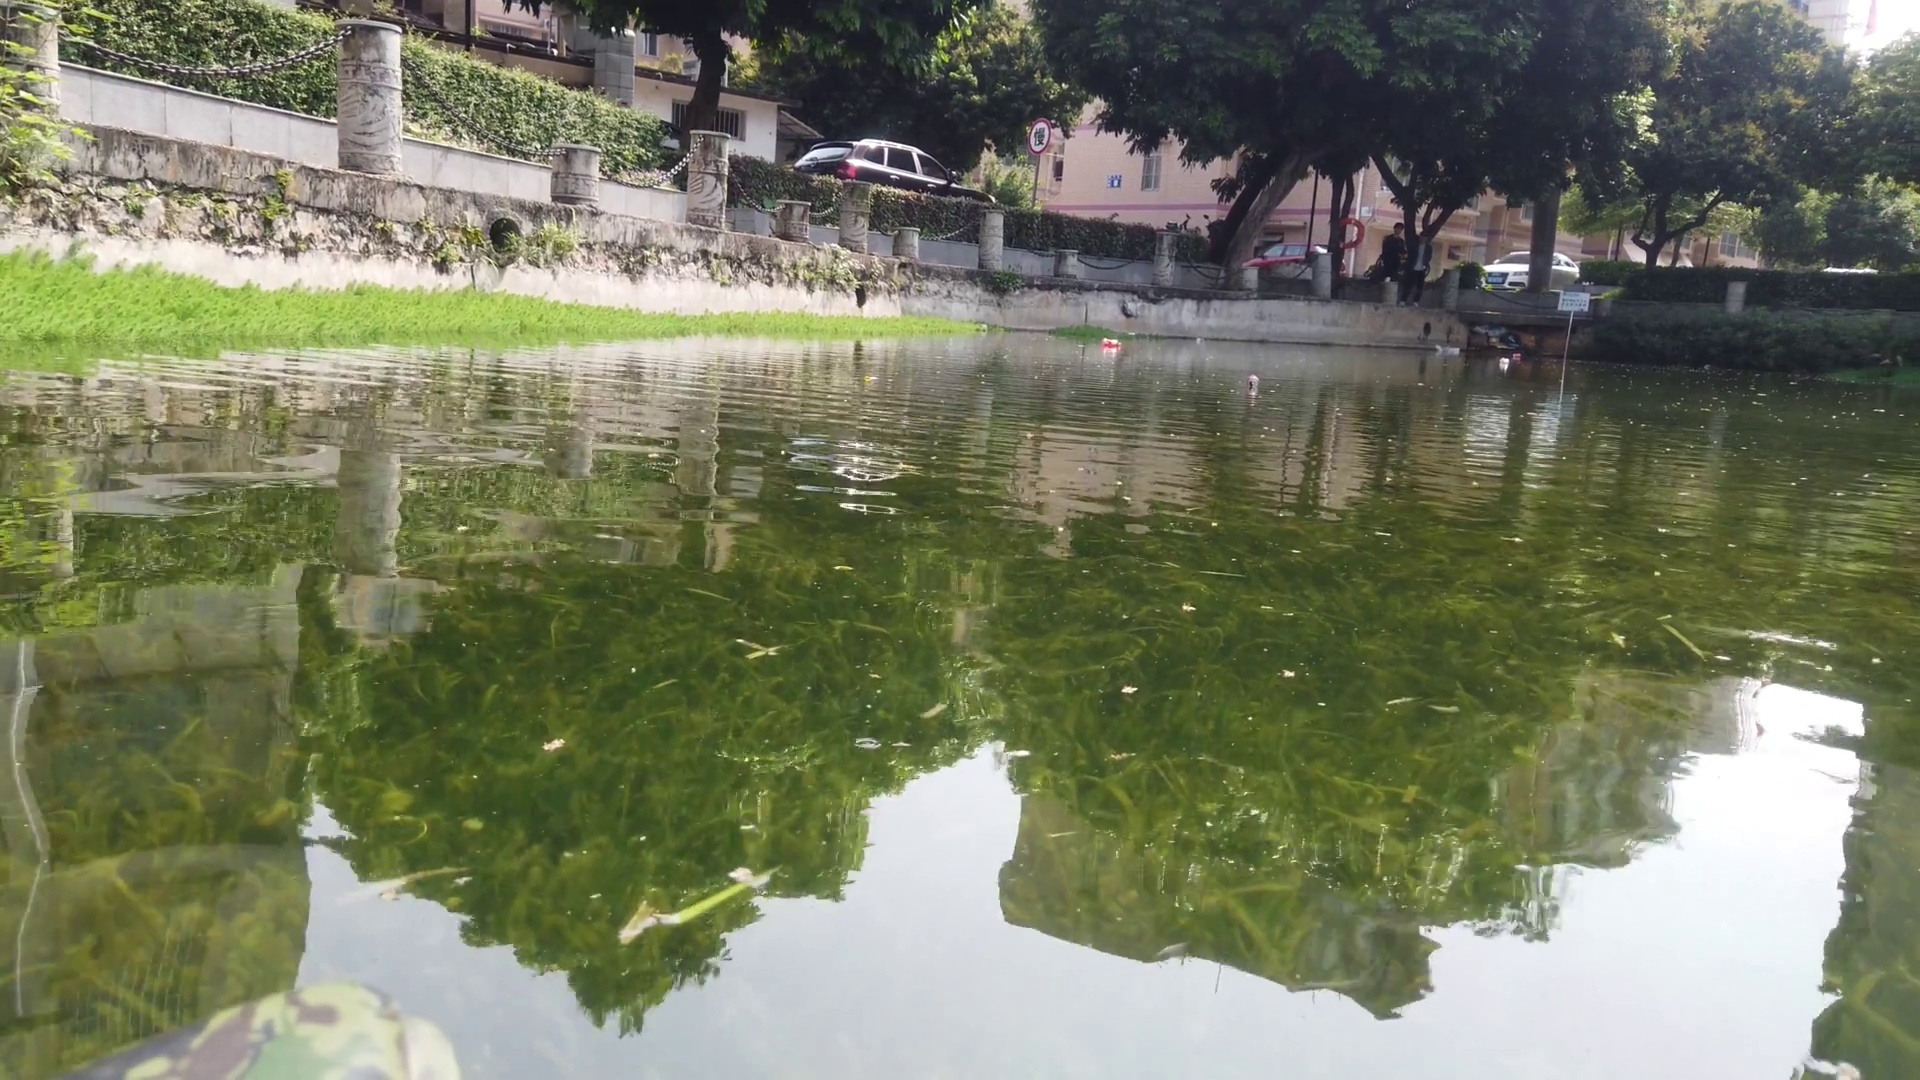bottle: (1100, 335, 1126, 349), (1246, 375, 1262, 388), (1501, 353, 1513, 369), (1513, 351, 1523, 361)
carton: (1447, 345, 1462, 357)
plastic: (1435, 342, 1449, 356)
